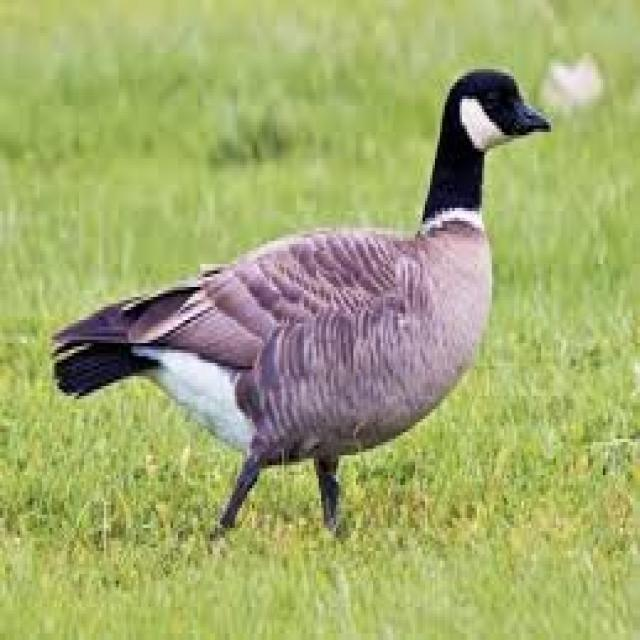Goose: (48, 66, 549, 523)
